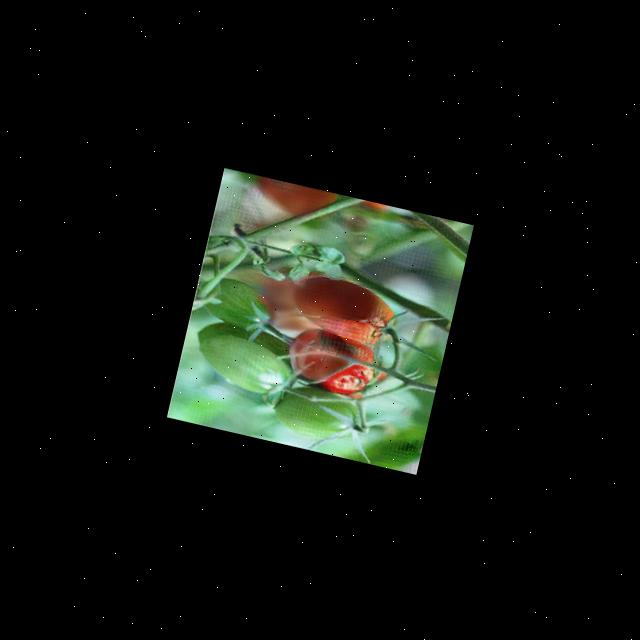tomato: (288, 268, 398, 346), (286, 320, 382, 398)
